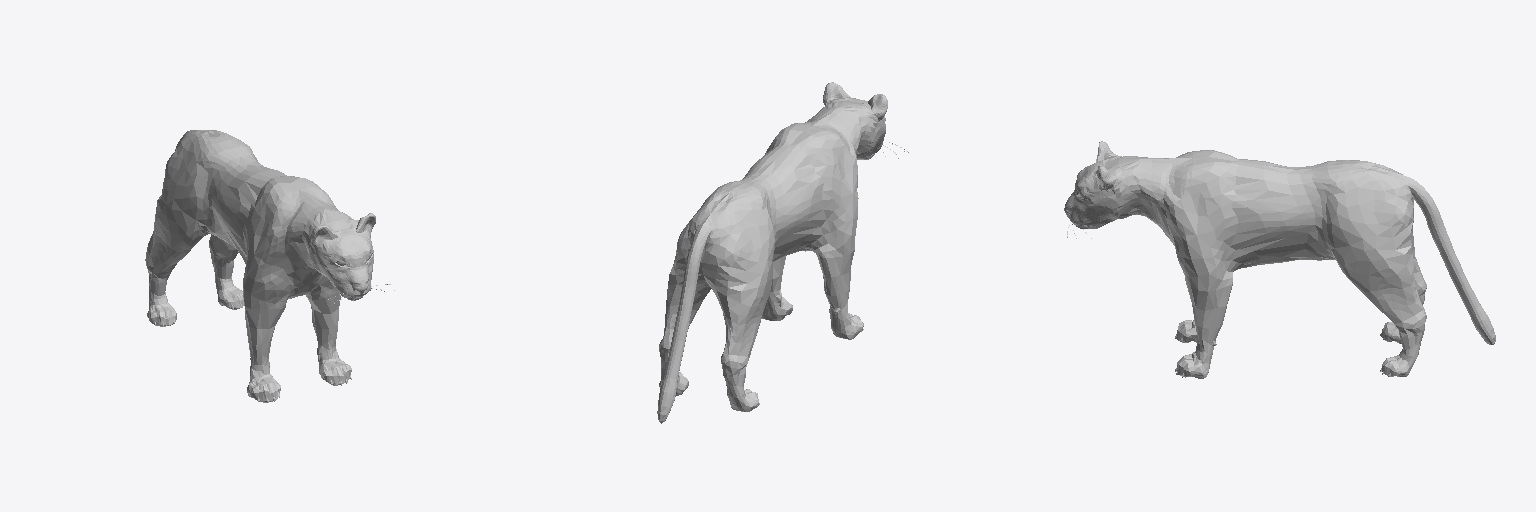
The model's file is PANTHER.OBJ.
3 renders of one model, left to right at view 1: azimuth 30°, elevation 25°; view 2: azimuth 150°, elevation 25°; view 3: azimuth 270°, elevation 25°, orthographic.
Parts seen in each view (by area): view 1: pnth_body; view 2: pnth_body; view 3: pnth_body.
Boxes of the visible parts, <box> form: pnth_body: <box>145,130,375,402</box>; pnth_body: <box>657,82,887,423</box>; pnth_body: <box>1064,141,1495,378</box>.
Bounding box in the file's own units: 0.4921 × 0.9558 × 1.84.